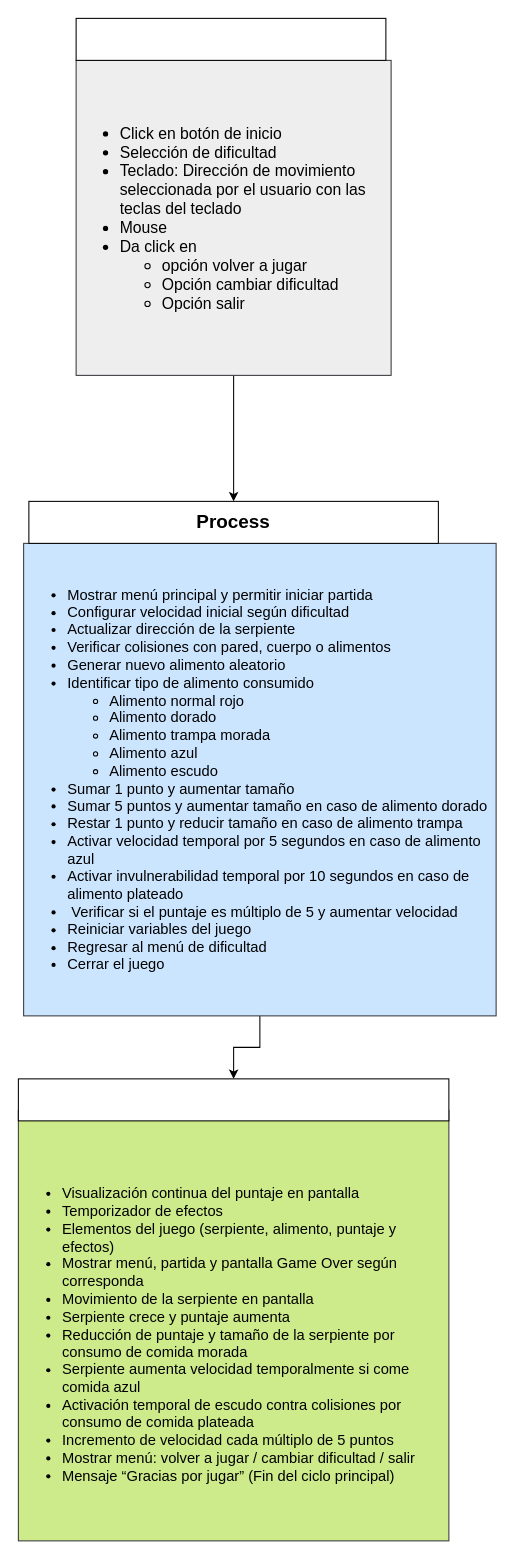
Some shapes in this 515 by 1559 pixel diagram are drawn without their labels. Here are the shapes that lost their labels. From the top down, the centre of each, then its label:
At point (230, 38): "Input".
At point (233, 1099): "Output".
